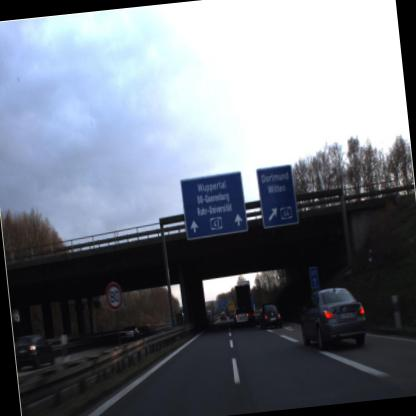prohibitory: (100, 278, 129, 317)
